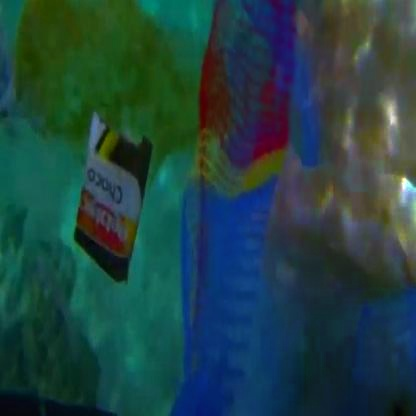plastic: (240, 116, 416, 373), (68, 106, 163, 309)
